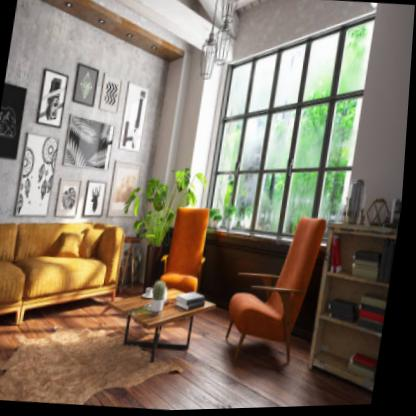Frame: (20, 132, 62, 217), (65, 114, 118, 171), (121, 81, 150, 152), (39, 70, 71, 128), (112, 162, 144, 217), (75, 64, 101, 108), (87, 180, 110, 218)
Window: (208, 19, 376, 240)
